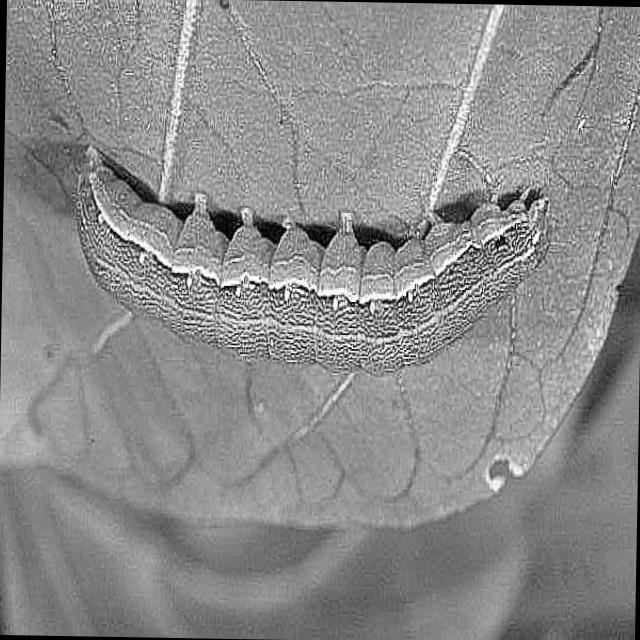Armyworm: (60, 88, 571, 381)
